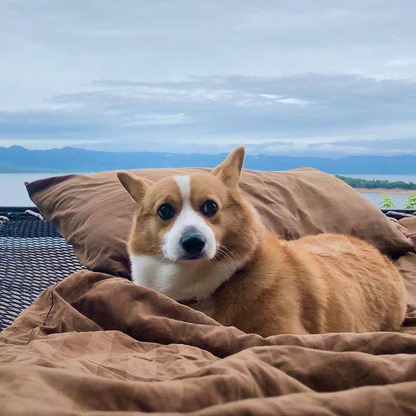Corgi: (101, 150, 411, 344)
